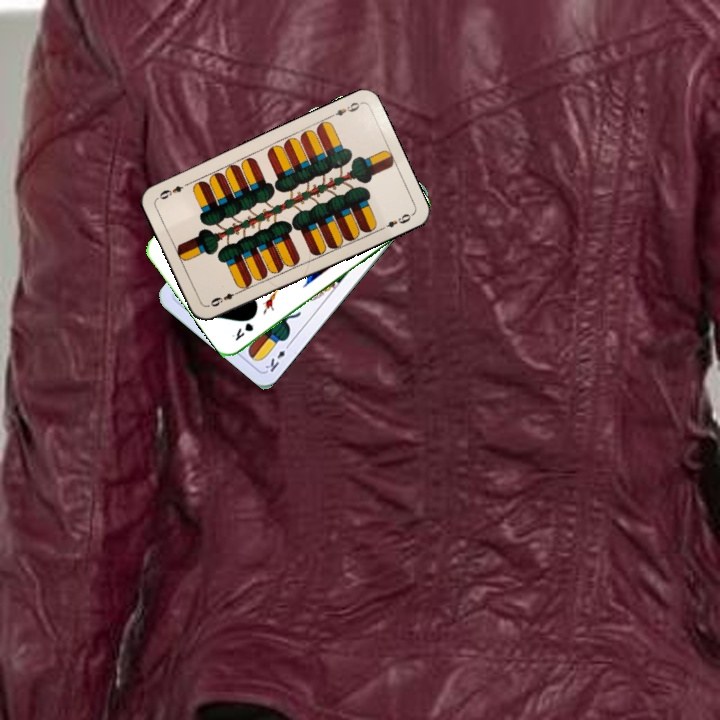E9: (204, 287, 243, 310), (325, 98, 364, 121)
EK: (261, 339, 293, 375)
GK: (228, 319, 256, 343)
